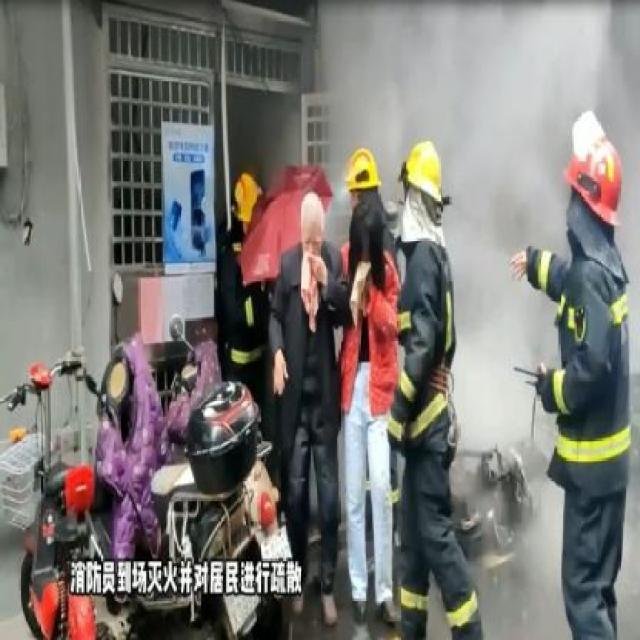Smoke: (446, 0, 570, 458), (328, 4, 596, 176)
